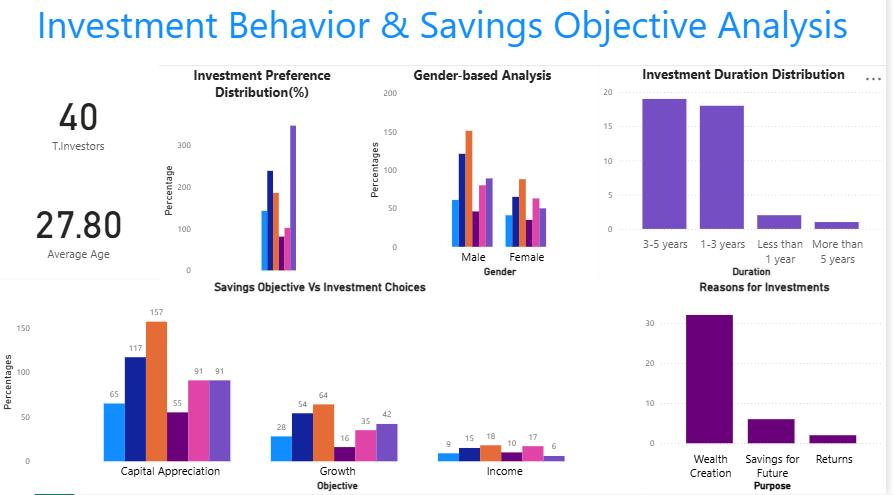

Layout of this report page (visuals, bound fields, positions):
{"tool":"powerbi","page":{"name":"Page 1","canvas":[1280,720],"ordinal":0},"visuals":[{"type":"lineClusteredColumnComboChart","title":"Investment Preference Distribution(%)","fields":{"Y":["Sum(Data_set 2.Fixed_Deposits)","Sum(Data_set 2.Gold)","Sum(Data_set 2.Government_Bonds)","Sum(Data_set 2.PPF)","Sum(Data_set 2.Mutual_Funds)","Data_set 2.Equity %","select"]},"box":[231.7,103.3,296.7,308.3],"z":1000},{"type":"clusteredColumnChart","title":"Gender-based Analysis","fields":{"Y":["Sum(Data_set 2.Mutual_Funds)","Sum(Data_set 2.Government_Bonds)","Sum(Data_set 2.Gold)","Sum(Data_set 2.PPF)","Sum(Data_set 2.Fixed_Deposits)","Sum(Data_set 2.Equity_Market)"],"Category":["Data_set 2.gender"]},"box":[528.3,103.3,338.3,308.3],"z":2000},{"type":"clusteredColumnChart","title":"Savings Objective Vs Investment Choices ","fields":{"Y":["Sum(Data_set 2.Mutual_Funds)","Sum(Data_set 2.Government_Bonds)","Sum(Data_set 2.Gold)","Sum(Data_set 2.PPF)","Sum(Data_set 2.Fixed_Deposits)","Sum(Data_set 2.Equity_Market)"],"Category":["Data_set 2.Objective"]},"box":[0,411.5,927.2,309.1],"z":3000},{"type":"clusteredColumnChart","title":"Investment  Duration Distribution","fields":{"Category":["Data_set 2.Duration"],"Y":["Data_set 2.T.Investors"]},"box":[866.7,101.7,413.3,310],"z":4000},{"type":"textbox","box":[0,0,1280,104.3],"z":5000},{"type":"clusteredColumnChart","title":"Reasons for Investments","fields":{"Category":["Data_set 2.Purpose"],"Y":["Data_set 2.T.Investors"]},"box":[927.2,411.5,352.8,309.1],"z":6000},{"type":"card","fields":{"Values":["Data_set 2.T.Investors"]},"box":[0,101.7,231.7,156.7],"z":6001},{"type":"card","fields":{"Values":["Data_set 2.Average Age"]},"box":[0,259,232,152],"z":6002}]}

Visuals, with their boxes in screenshot pixels (x1, y1, x2, y2), scaled from the page's 1280x720 canvas onto the 893x495 screenshot:
"Investment Preference Distribution(%)" lineClusteredColumnComboChart: Rect(162, 71, 369, 283)
"Gender-based Analysis" clusteredColumnChart: Rect(369, 71, 605, 283)
"Savings Objective Vs Investment Choices " clusteredColumnChart: Rect(0, 283, 647, 494)
"Investment  Duration Distribution" clusteredColumnChart: Rect(605, 70, 892, 283)
textbox: Rect(0, 0, 892, 72)
"Reasons for Investments" clusteredColumnChart: Rect(647, 283, 892, 494)
card - Data_set 2.T.Investors: Rect(0, 70, 162, 178)
card - Data_set 2.Average Age: Rect(0, 178, 162, 283)
